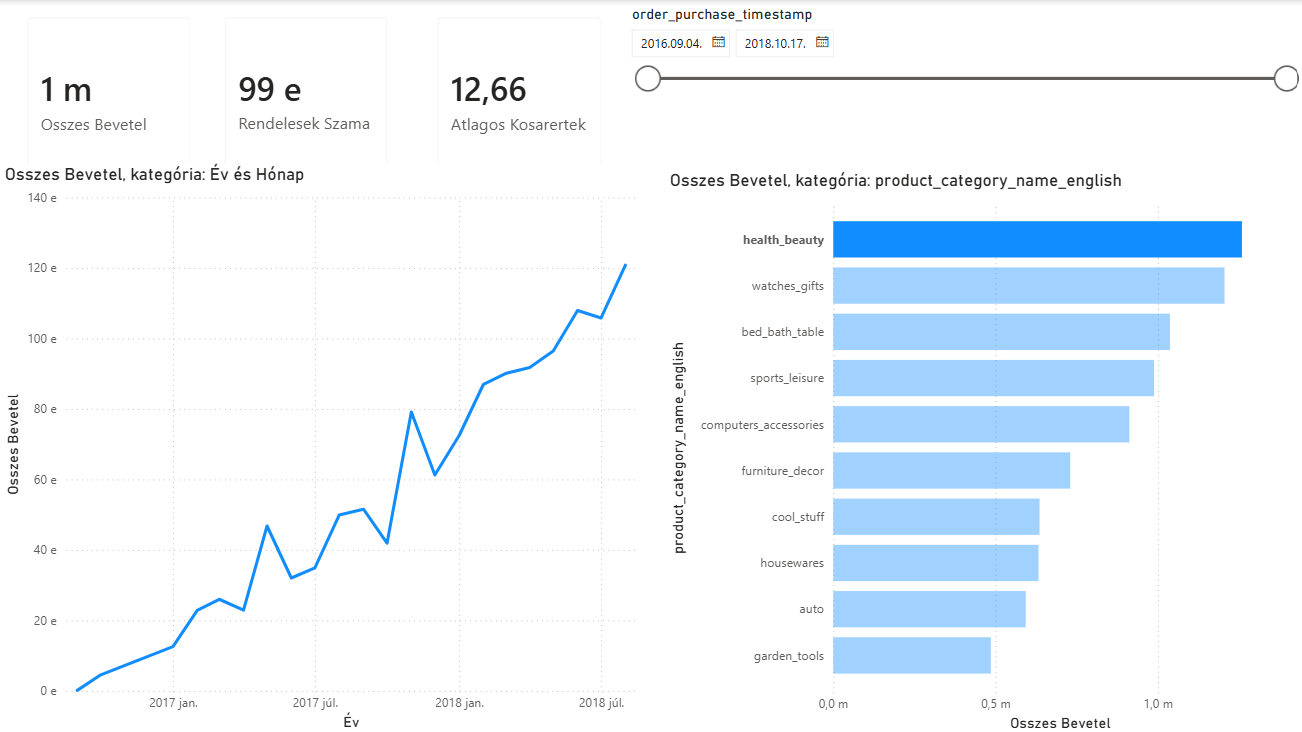

The dashboard page shown, as its layout file describes it:
{"tool":"powerbi","page":{"name":"1. oldal","canvas":[1280,720],"ordinal":0},"visuals":[{"type":"cardVisual","fields":{"Data":["olist_order_items_dataset.Osszes Bevetel"]},"box":[9.8,0,193.2,194.4],"z":0},{"type":"cardVisual","fields":{"Data":["olist_order_items_dataset.Rendelesek Szama"]},"box":[203.4,0,193.4,193.4],"z":1000},{"type":"cardVisual","fields":{"Data":["olist_order_items_dataset.Atlagos Kosarertek"]},"box":[410.7,0,194.2,194.2],"z":2000},{"type":"lineChart","fields":{"Category":["olist_orders_dataset.order_purchase_timestamp.Változat.Dátumhierarchia.Év","olist_orders_dataset.order_purchase_timestamp.Változat.Dátumhierarchia.Hónap"],"Y":["olist_order_items_dataset.Osszes Bevetel"]},"box":[0,160.7,640,559.7],"z":3000},{"type":"clusteredBarChart","fields":{"Category":["product_category_name_translation.product_category_name_english"],"Y":["olist_order_items_dataset.Osszes Bevetel"]},"box":[650.5,165.9,629.5,554.4],"z":4000},{"type":"slicer","fields":{"Values":["olist_orders_dataset.order_purchase_timestamp"]},"box":[605.5,0,674.5,165.4],"z":4001}]}

Visuals, with their boxes in screenshot pixels (x1, y1, x2, y2), scaled from the page's 1280x720 canvas onto the 1302x732 screenshot:
cardVisual - olist_order_items_dataset.Osszes Bevetel: box(10, 0, 206, 198)
cardVisual - olist_order_items_dataset.Rendelesek Szama: box(207, 0, 404, 197)
cardVisual - olist_order_items_dataset.Atlagos Kosarertek: box(418, 0, 615, 197)
lineChart - olist_orders_dataset.order_purchase_timestamp.Változat.Dátumhierarchia.Év x olist_orders_dataset.order_purchase_timestamp.Változat.Dátumhierarchia.Hónap: box(0, 163, 651, 731)
clusteredBarChart - product_category_name_translation.product_category_name_english x olist_order_items_dataset.Osszes Bevetel: box(662, 169, 1301, 731)
slicer - olist_orders_dataset.order_purchase_timestamp: box(616, 0, 1301, 168)
